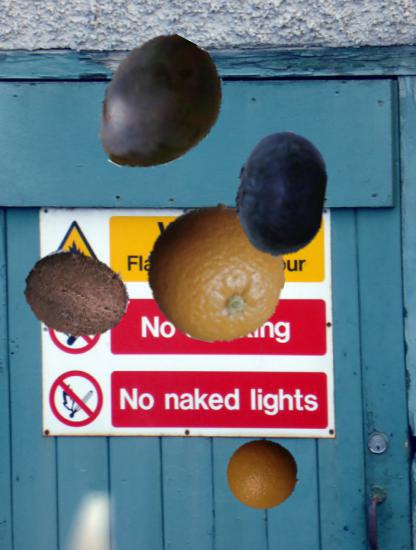Blueberry: (217, 130, 345, 258)
Cocos: (22, 240, 131, 349)
Orange: (146, 203, 286, 343), (227, 438, 301, 512)
Plum: (88, 35, 232, 179)
